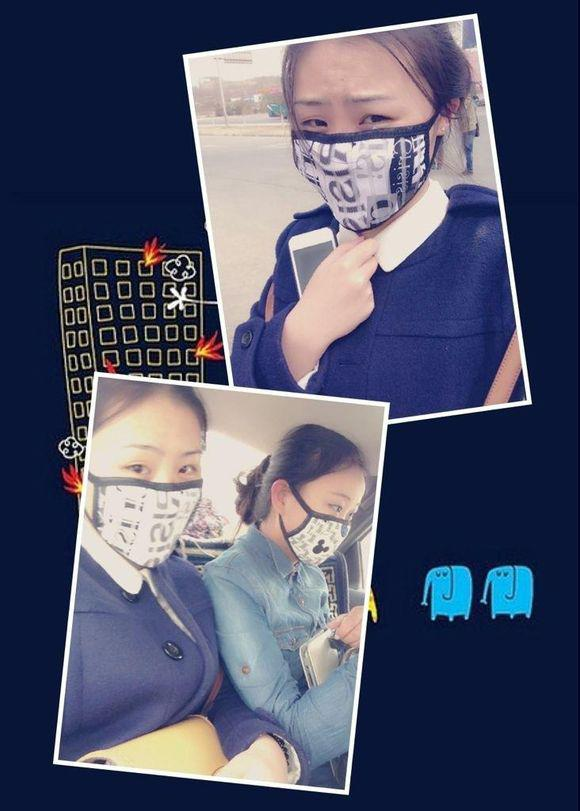OK: (295, 83, 440, 225), (94, 439, 212, 557), (277, 487, 362, 571)
